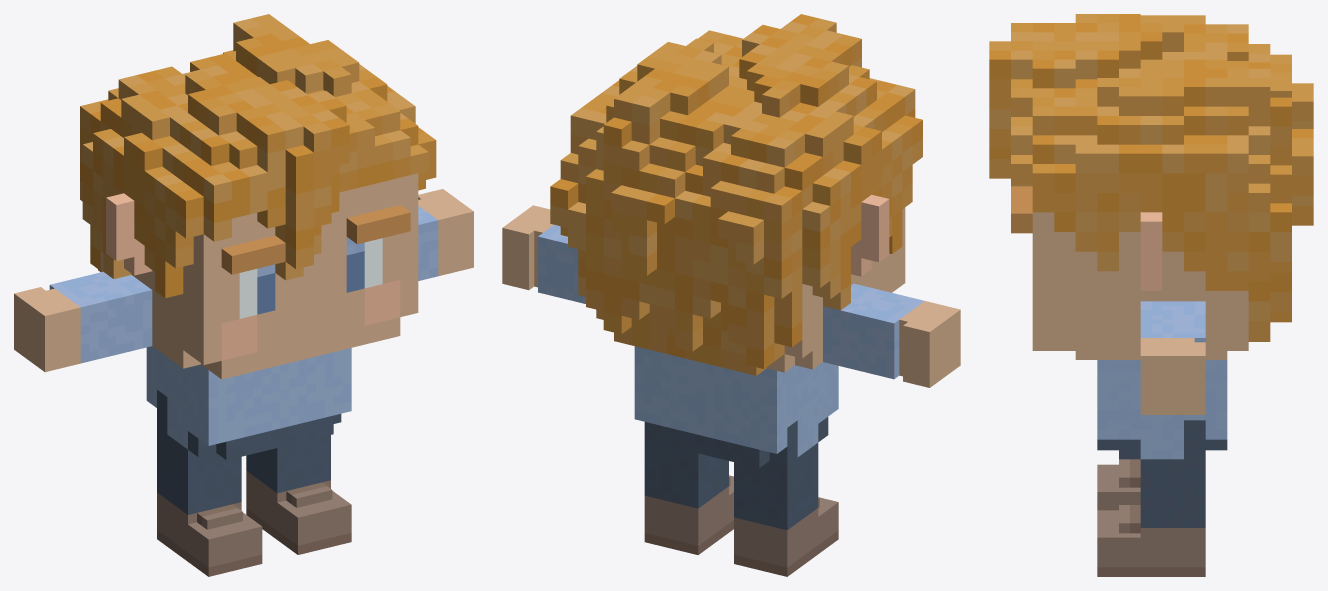
The model's file is everbee_boy_v2.fbx.
3 views of the same model, side by side, from view 1: azimuth 30°, elevation 25°; view 2: azimuth 150°, elevation 25°; view 3: azimuth 270°, elevation 25° (orthographic). The views are drawn at different scales.
Parts seen in each view (by area): view 1: ObjObject.005, ObjObject, ObjObject.001, ObjObject.004, ObjObject.003, ObjObject.002; view 2: ObjObject.005, ObjObject, ObjObject.001, ObjObject.004, ObjObject.003, ObjObject.002; view 3: ObjObject.005, ObjObject.003, ObjObject, ObjObject.002, ObjObject.004.
Boxes of the visible parts, <box> form: ObjObject.005: <box>80,14,436,379</box>; ObjObject: <box>146,346,351,460</box>; ObjObject.001: <box>14,271,152,372</box>; ObjObject.004: <box>157,427,262,576</box>; ObjObject.003: <box>246,435,351,554</box>; ObjObject.002: <box>418,189,473,280</box>; ObjObject.005: <box>550,14,922,375</box>; ObjObject: <box>634,346,838,467</box>; ObjObject.001: <box>823,283,960,387</box>; ObjObject.004: <box>734,443,838,576</box>; ObjObject.003: <box>644,430,733,554</box>; ObjObject.002: <box>502,205,585,303</box>; ObjObject.005: <box>989,14,1313,359</box>; ObjObject.003: <box>1097,459,1205,576</box>; ObjObject: <box>1097,360,1227,459</box>; ObjObject.002: <box>1140,301,1205,414</box>; ObjObject.004: <box>1097,459,1140,510</box>.
Bounding box in the file's own units: 288 × 300 × 180.
